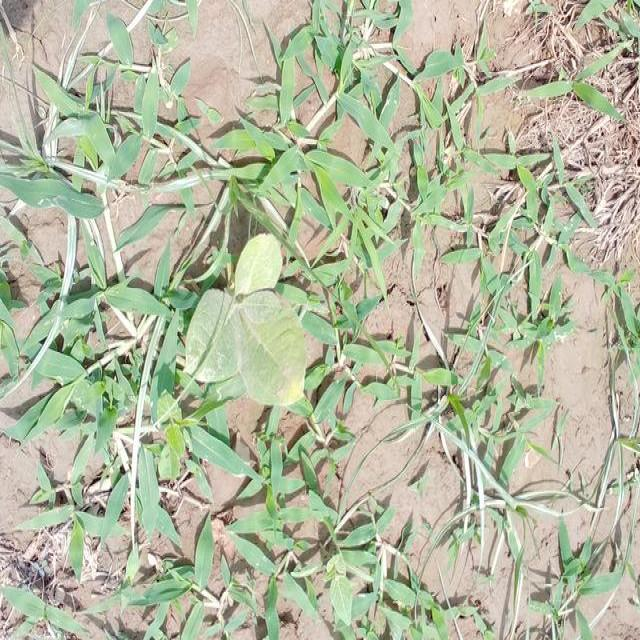crop: (189, 242, 303, 406)
